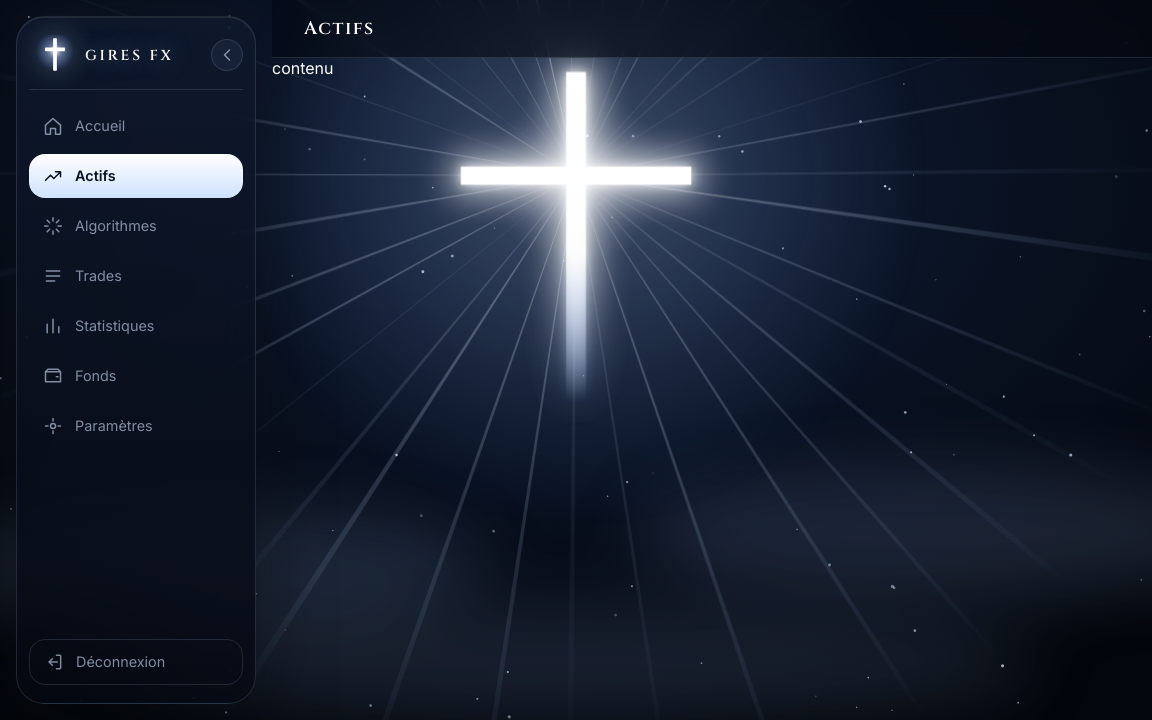
Test: Layout : déconnexion avec confirmation › demande confirmation sans déconnecter
What coordinates should you click on to do the following:
click the button "Déconnexion"
I would click on:
 (136, 662)
Its box is 29,639 -> 243,685.
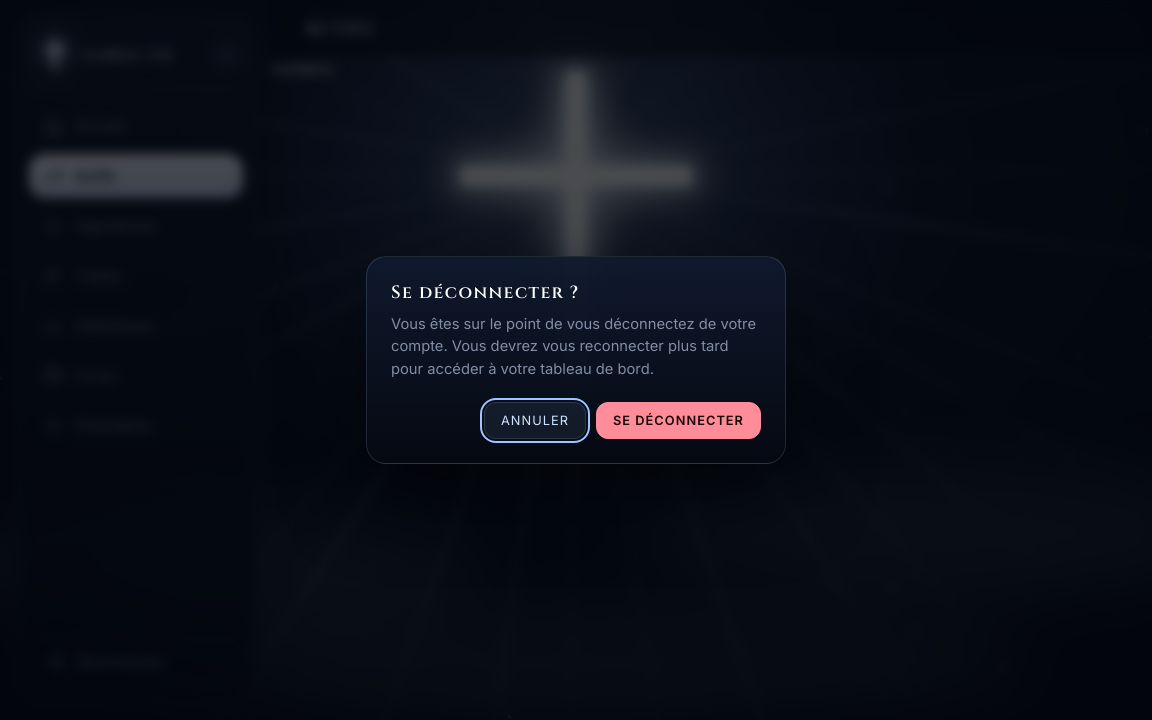
Now the dialog "Se déconnecter ?" is shown, box 366,256 -> 786,464
